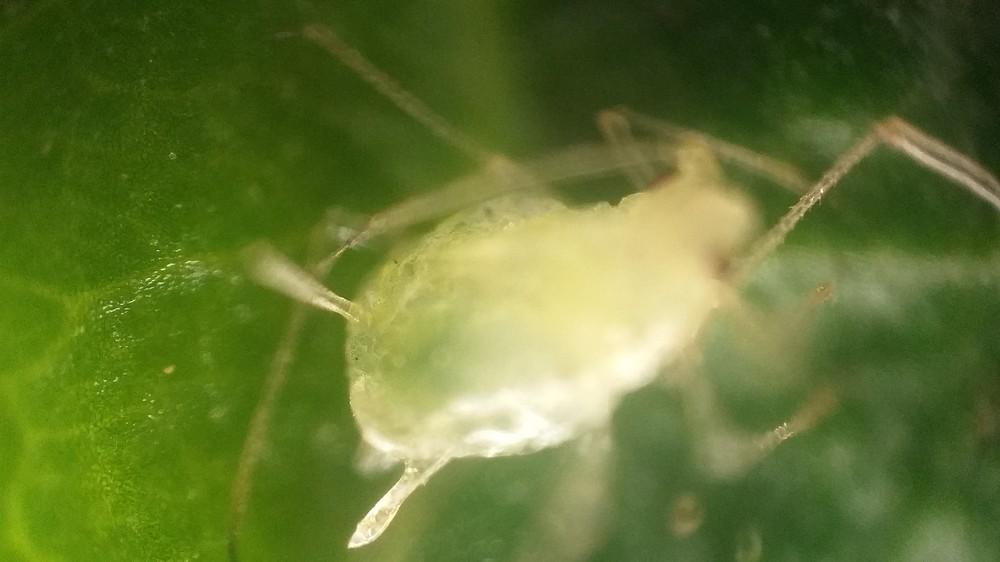Pulgon: (242, 28, 989, 544)
